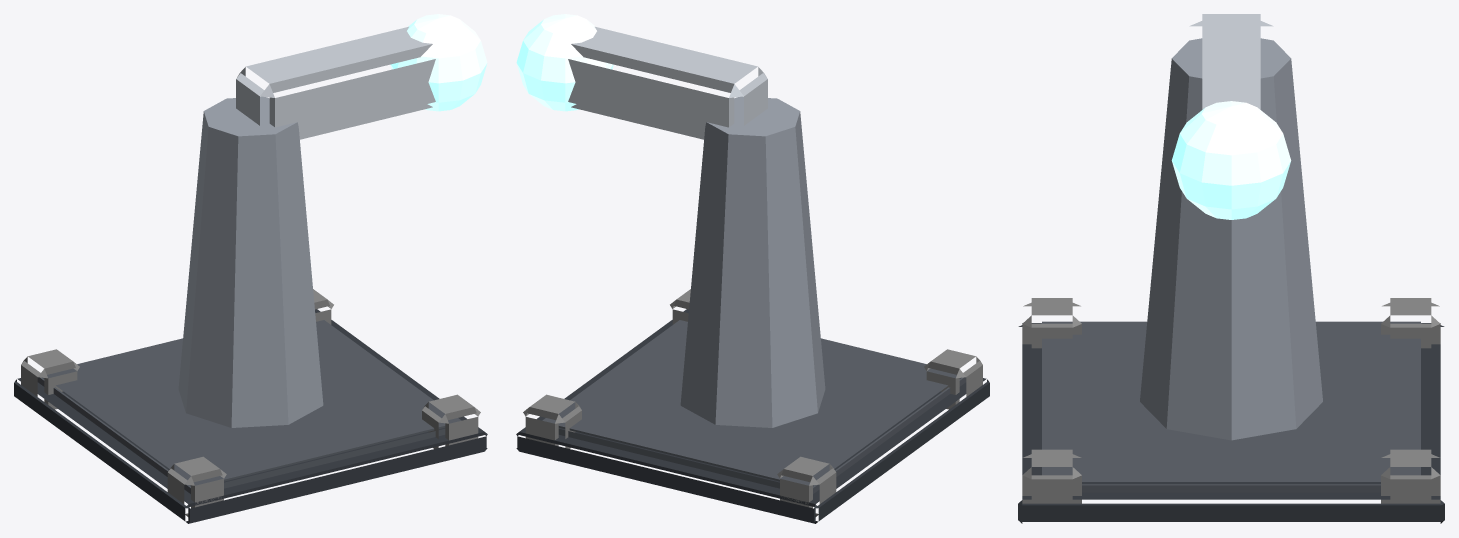
The model's file is nano.glb.
3 views of the same model, side by side, from view 1: azimuth 30°, elevation 25°; view 2: azimuth 150°, elevation 25°; view 3: azimuth 270°, elevation 25° (orthographic). The views are drawn at different scales.
Parts seen in each view (by area): view 1: body, turret; view 2: body, turret; view 3: body, turret.
Boxes of the visible parts, box(x1,y1,x2,y2) form: body: box(14, 96, 487, 523); turret: box(236, 14, 487, 139); body: box(516, 96, 989, 523); turret: box(516, 14, 767, 139); body: box(1018, 38, 1444, 523); turret: box(1171, 14, 1291, 219).
Bounding box in the file's own units: 40.32 × 36.48 × 32.
